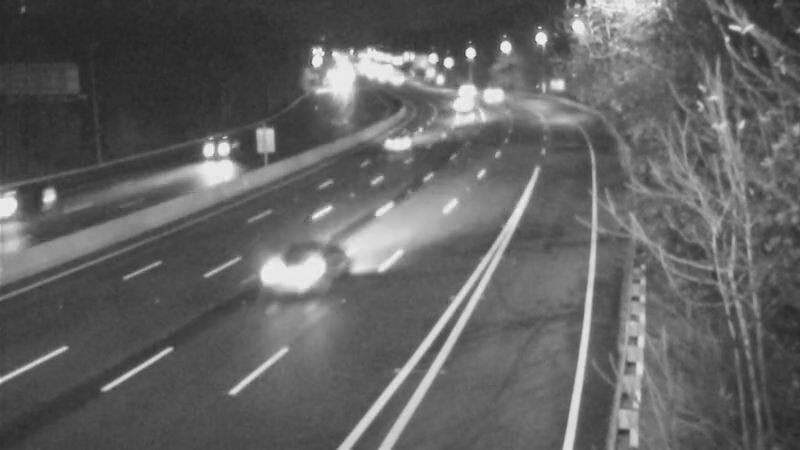vehicle: (254, 234, 334, 314), (1, 164, 73, 244), (435, 62, 485, 112), (465, 66, 515, 116), (440, 77, 490, 127), (429, 96, 479, 146), (377, 117, 427, 167), (191, 124, 241, 174)
